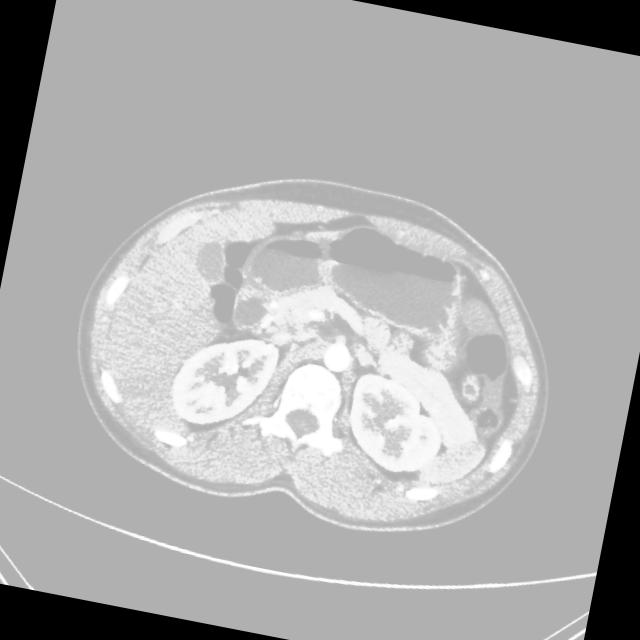NORMAL: (31, 114, 606, 594)
